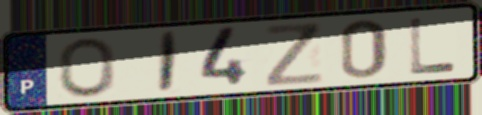0: (337, 17, 391, 83)
4: (197, 23, 256, 93)
I: (155, 29, 181, 96)
L: (407, 16, 459, 77)
O: (56, 36, 119, 99)
Z: (263, 20, 327, 89)
